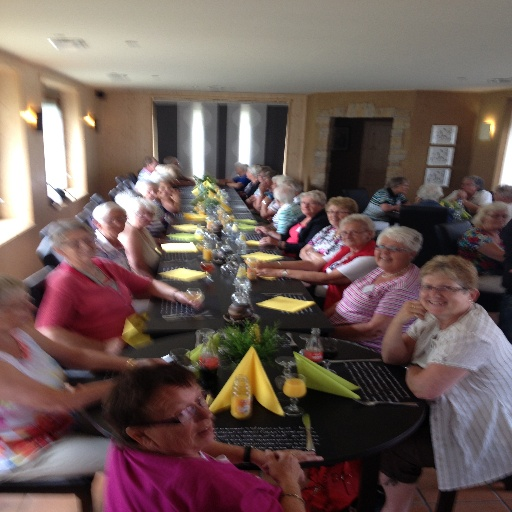hand: (257, 451, 306, 483), (393, 298, 427, 324), (177, 293, 205, 312), (134, 357, 168, 369), (106, 339, 125, 356), (253, 269, 278, 278), (257, 237, 279, 247), (249, 260, 273, 269), (252, 226, 270, 235)
